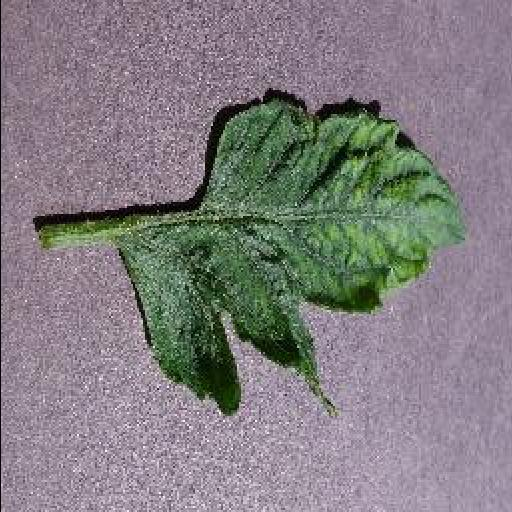disease_tomato: (120, 93, 478, 415)
